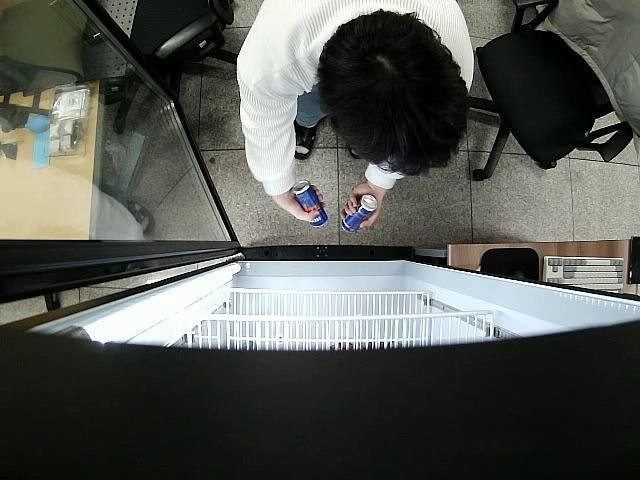16_hot6: (293, 179, 328, 228), (341, 192, 378, 234)
